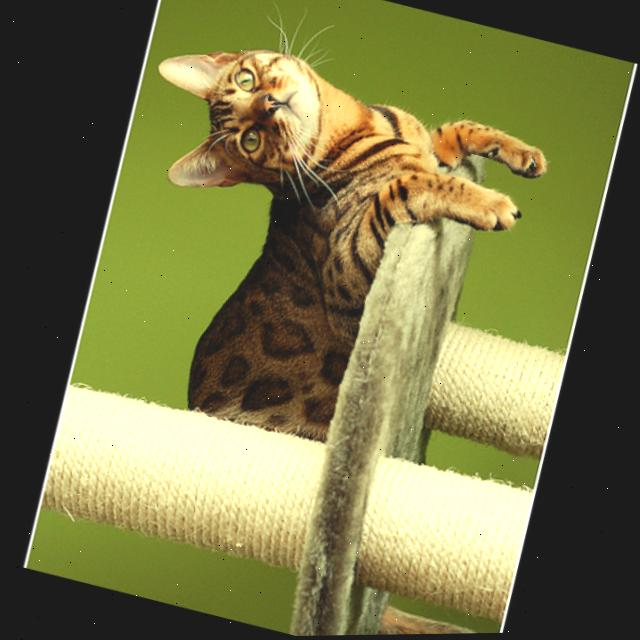Bengal: (56, 1, 586, 501)
